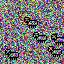sheep: (23, 17, 38, 29), (47, 46, 62, 57), (33, 32, 47, 43), (5, 49, 19, 60), (51, 34, 64, 45)
